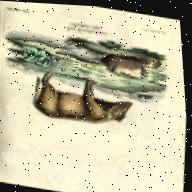boar: (28, 69, 137, 133)
